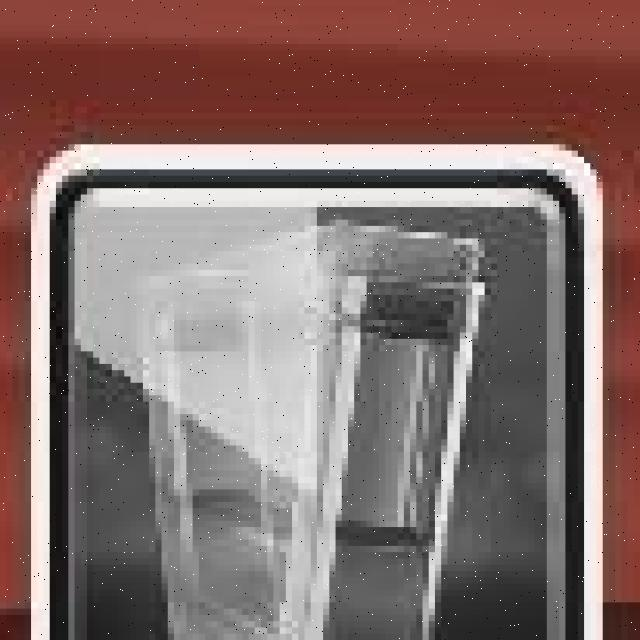Clone_Spell: (26, 135, 612, 640)
